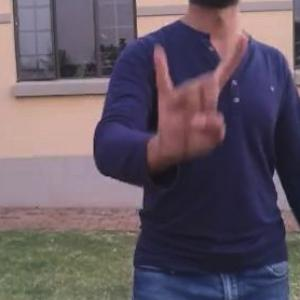takeoff-hand: (144, 24, 254, 172)
